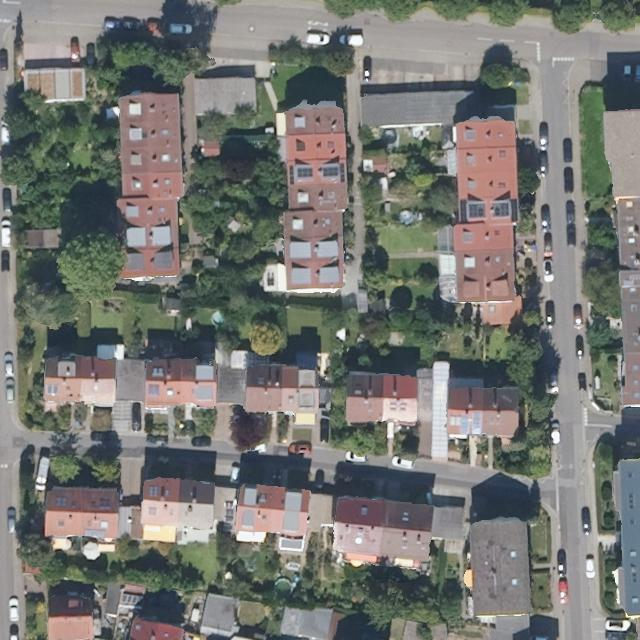PV: (469, 409, 487, 438), (459, 413, 472, 440)
